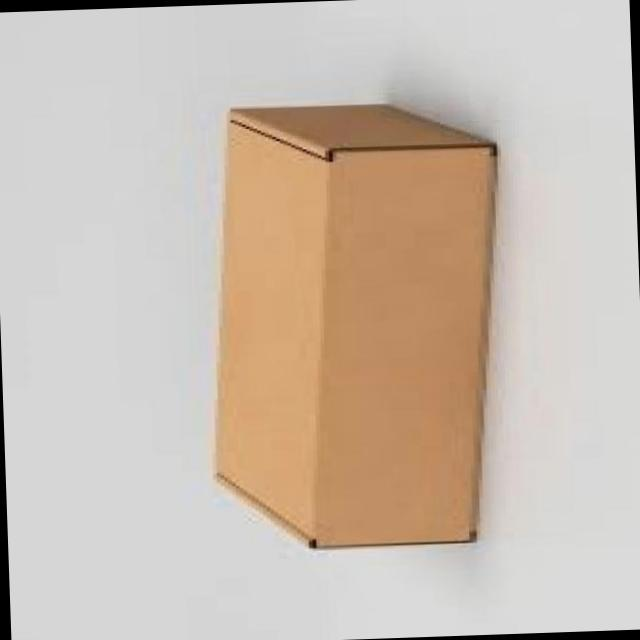cardboard paper: (214, 105, 492, 548)
